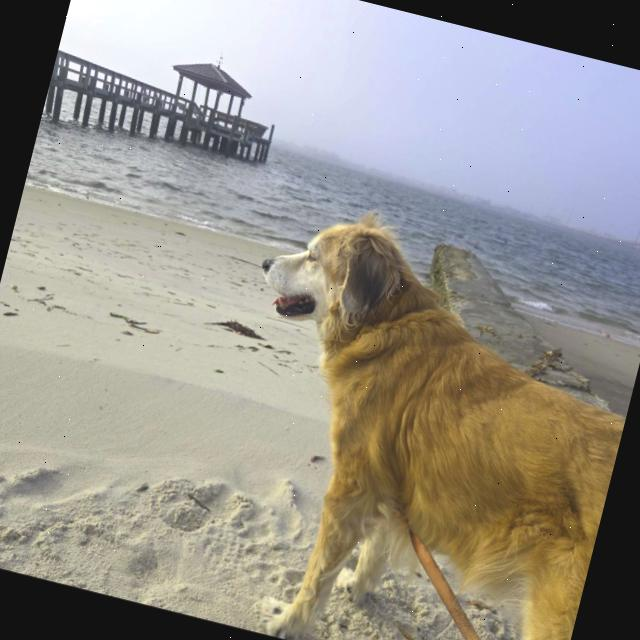golden_retriever_dog: (221, 183, 468, 416)
